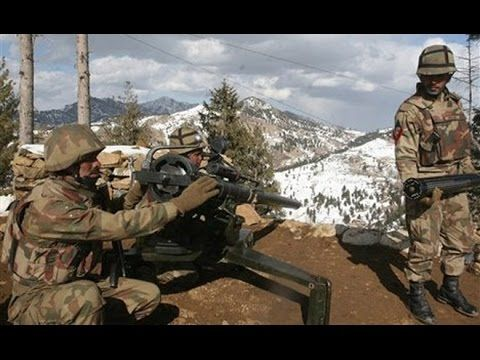uniform: (10, 122, 135, 319), (379, 46, 472, 302)
